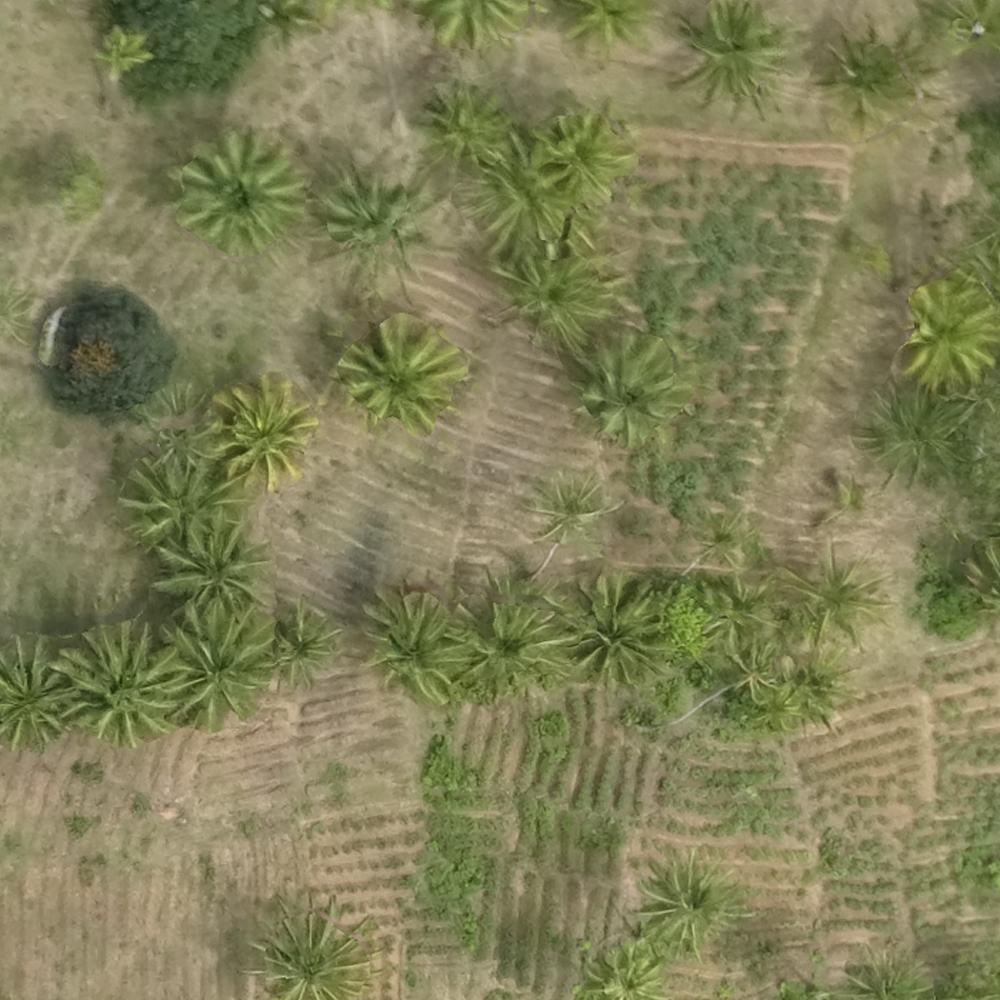Palm: (160, 601, 272, 729), (177, 131, 297, 250), (65, 627, 184, 742), (460, 154, 587, 261), (346, 312, 458, 433), (551, 573, 664, 685), (676, 1, 786, 112), (574, 329, 686, 433), (369, 588, 471, 702), (209, 384, 318, 490), (499, 251, 612, 344), (120, 454, 225, 551), (161, 514, 267, 610), (253, 905, 363, 996), (898, 286, 1000, 383), (463, 588, 564, 683), (537, 106, 634, 200), (792, 545, 883, 643), (1, 639, 79, 745), (421, 80, 515, 164), (316, 162, 405, 250), (641, 866, 729, 947), (262, 598, 335, 677), (582, 942, 655, 999)
